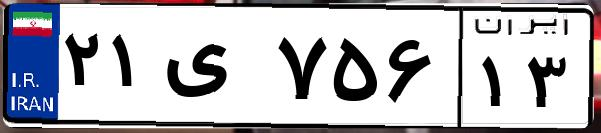1: (475, 38, 525, 113), (110, 28, 158, 98)
2: (57, 26, 110, 100)
3: (525, 38, 570, 115)
5: (330, 28, 385, 110)
6: (385, 28, 445, 110)
7: (270, 28, 330, 110)
ی: (158, 20, 270, 120)
